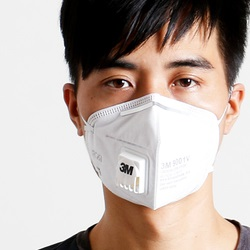face_mask: (82, 11, 220, 209)
